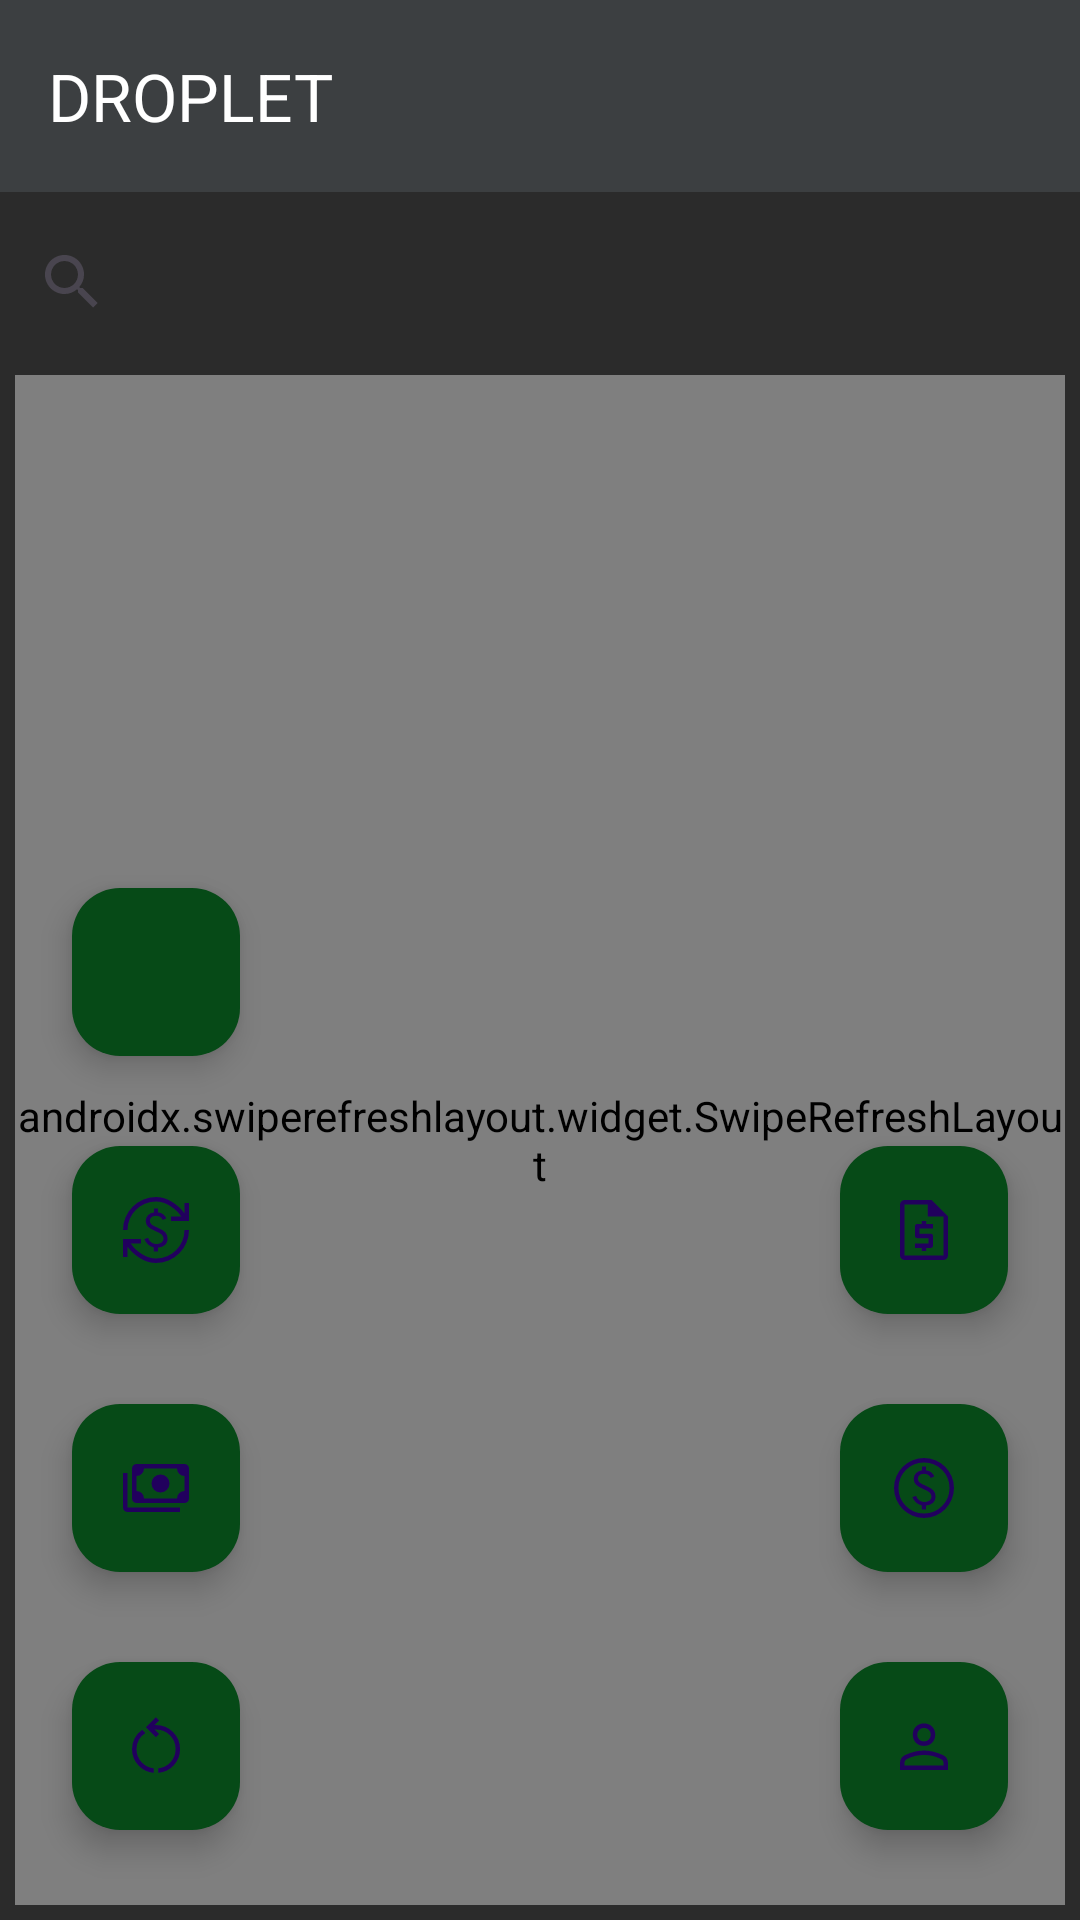

Screen size 1080x1920. Icon name, then its box in pixels as (x1, y1, x2, y2):
payments: (72, 1404, 240, 1572)
person: (840, 1662, 1008, 1830)
restart: (72, 1662, 240, 1830)
